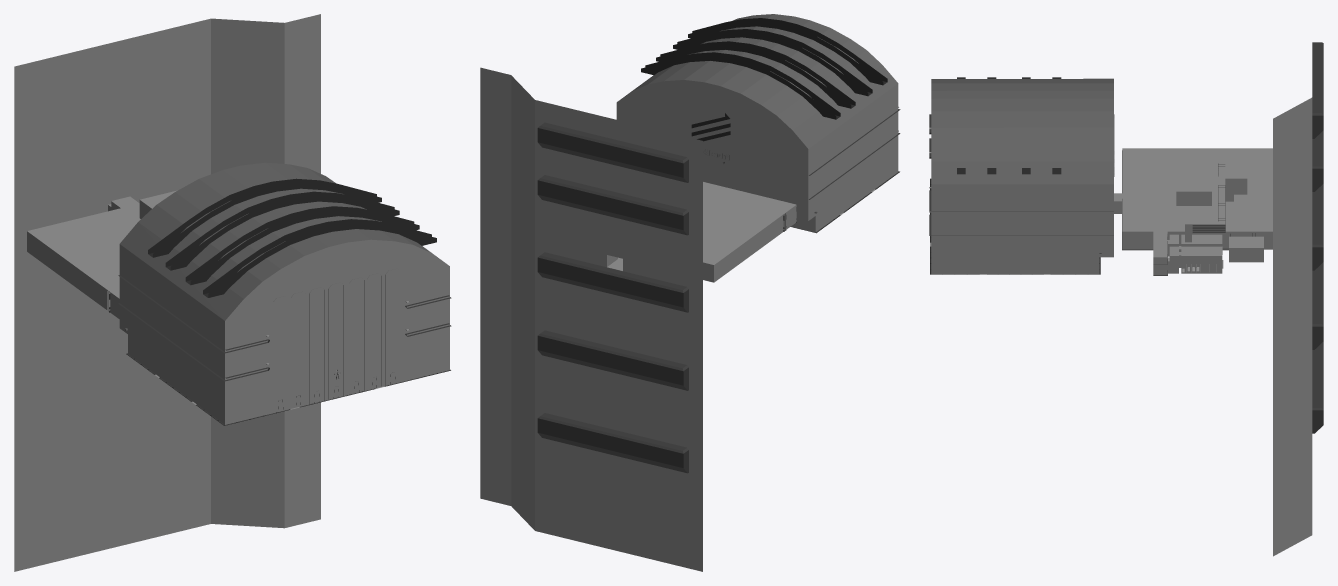
Rendered from office_jockey_3.FBX.
3 renders of one model, left to right at view 1: azimuth 30°, elevation 25°; view 2: azimuth 150°, elevation 25°; view 3: azimuth 270°, elevation 25°, orthographic. The views are drawn at different scales.
Visible parts, largest first — view 1: office_3; view 2: office_3, balconys; view 3: office_3, balconys.
Part boxes in pixels (x1=…): office_3: x1=14, y1=14, x2=451, y2=571; office_3: x1=480, y1=14, x2=900, y2=571; balconys: x1=537, y1=122, x2=688, y2=473; office_3: x1=929, y1=77, x2=1312, y2=556; balconys: x1=1312, y1=42, x2=1323, y2=433.
Bounding box in the file's own units: 2966 × 4852 × 3962.
